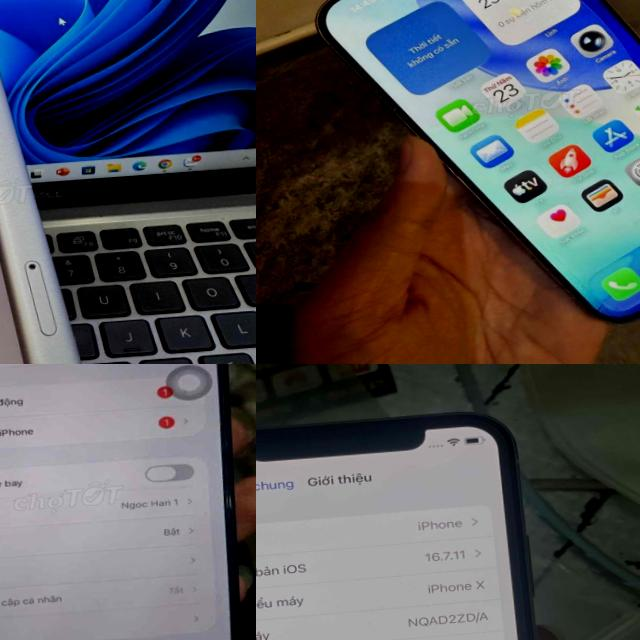gen_16: (318, 0, 640, 321), (0, 364, 237, 640)
gen_x_xs: (256, 398, 570, 640)
